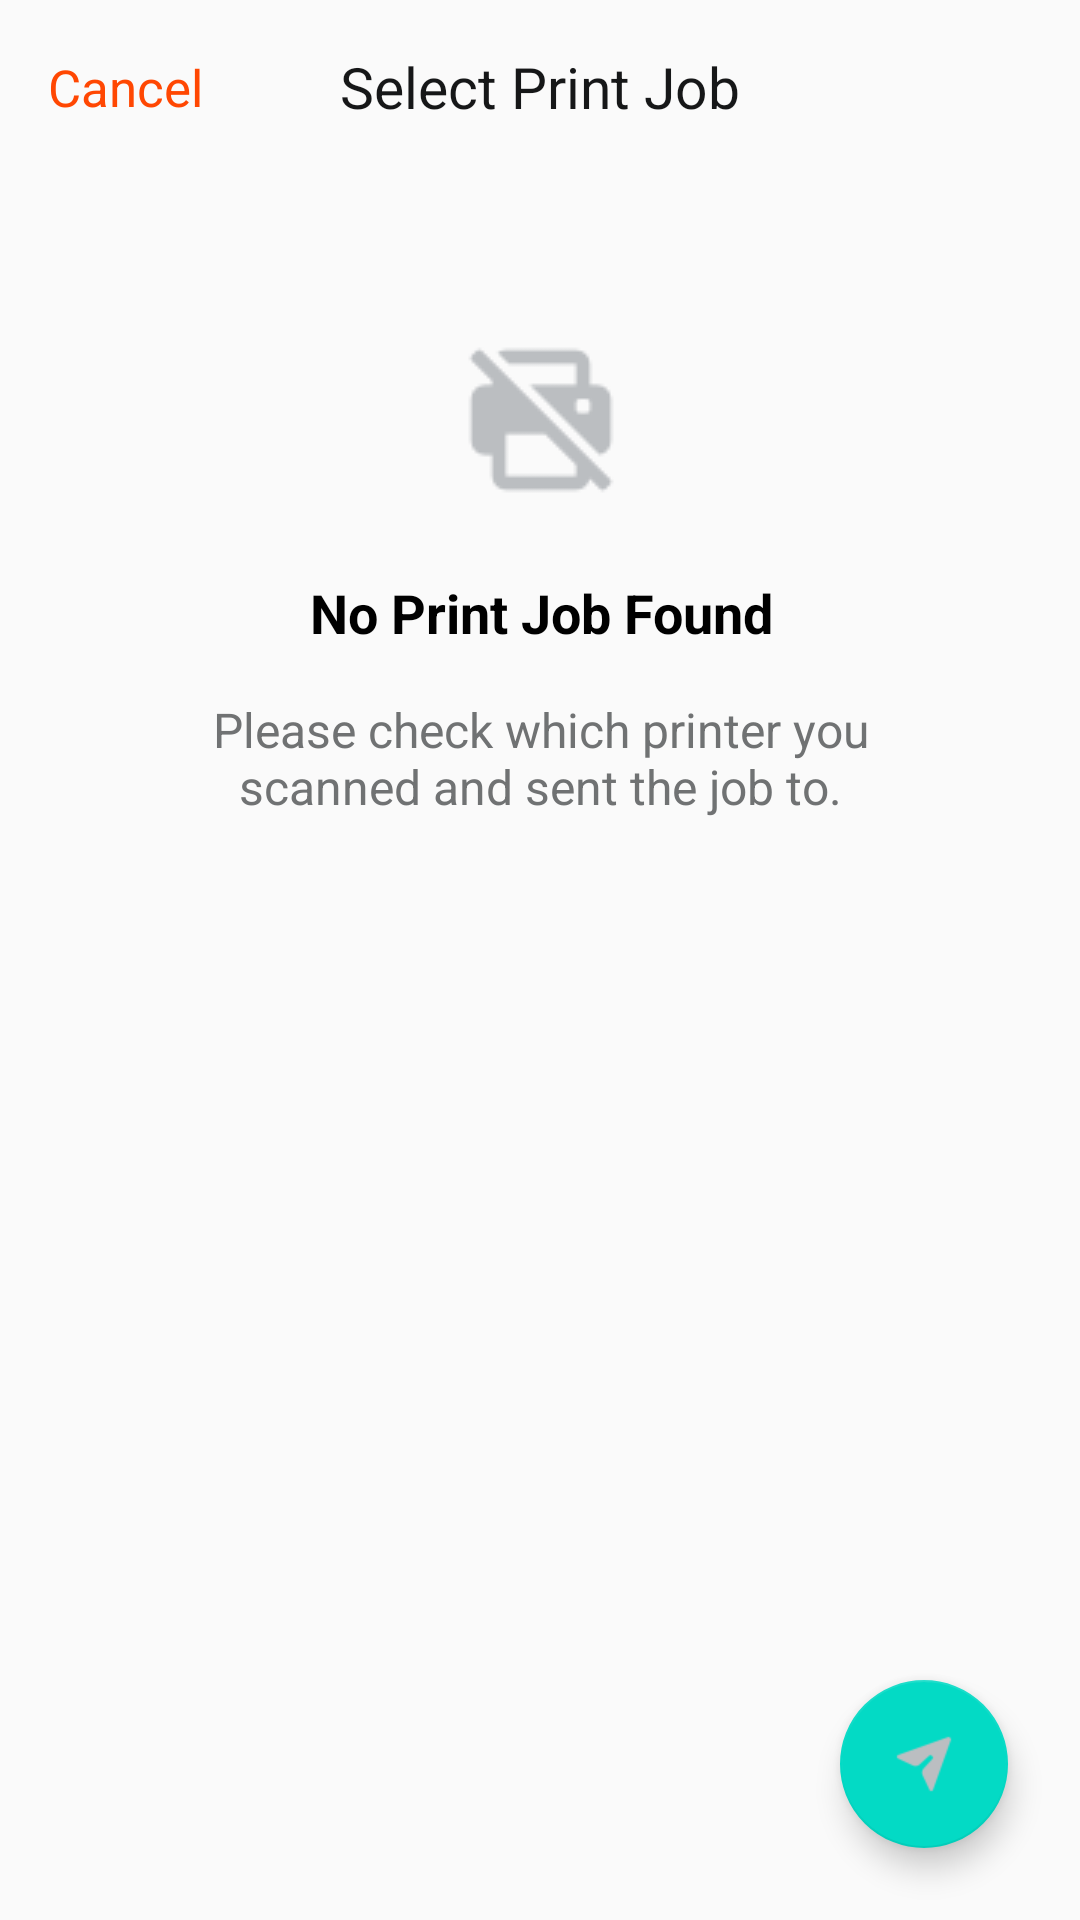

Icons on this 1080px×1920px Android screen, each with the point to tap as (x=x, y=y):
sendprintblack: (x=924, y=1764)
